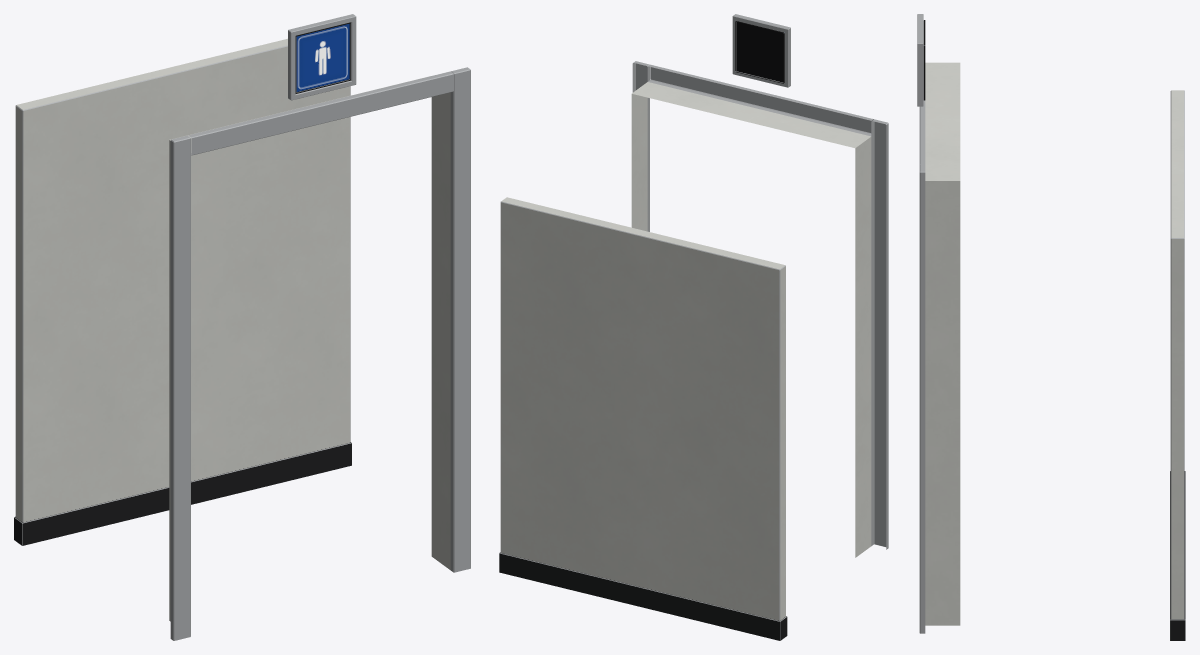
The model's file is gteki_toilet_entrance_male_maze.glb.
3 views of the same model, side by side, from view 1: azimuth 30°, elevation 25°; view 2: azimuth 150°, elevation 25°; view 3: azimuth 270°, elevation 25° (orthographic). The views are drawn at different scales.
Visible parts, largest first — view 1: VIS_screen, VIS_trim, VIS_reveal, VIS_faces, VIS_frame; view 2: VIS_screen, VIS_reveal, VIS_trim, VIS_frame; view 3: VIS_reveal, VIS_screen, VIS_trim, VIS_frame.
Boxes of the visible parts, <box> form: VIS_screen: <box>14,38,351,545</box>; VIS_trim: <box>170,67,470,640</box>; VIS_reveal: <box>169,76,450,621</box>; VIS_faces: <box>296,23,349,91</box>; VIS_frame: <box>288,14,356,100</box>; VIS_screen: <box>499,197,787,640</box>; VIS_reveal: <box>631,82,871,557</box>; VIS_trim: <box>632,61,888,549</box>; VIS_frame: <box>732,14,790,87</box>; VIS_reveal: <box>925,62,960,625</box>; VIS_screen: <box>1170,90,1185,640</box>; VIS_trim: <box>919,100,925,633</box>; VIS_frame: <box>917,14,925,106</box>.
Size of what is drawn, in the model's own units: 1.51 by 2.54 by 1.15.
Materials: 5 (2 with a texture image).
